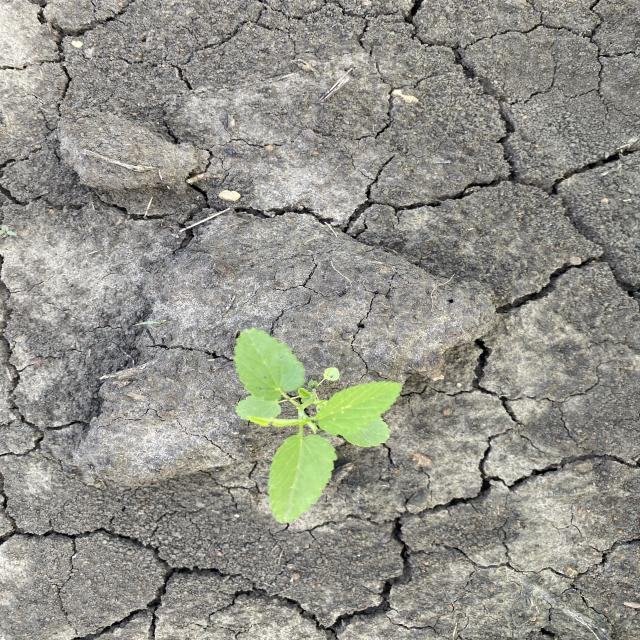PricklySida: (232, 326, 406, 527)
